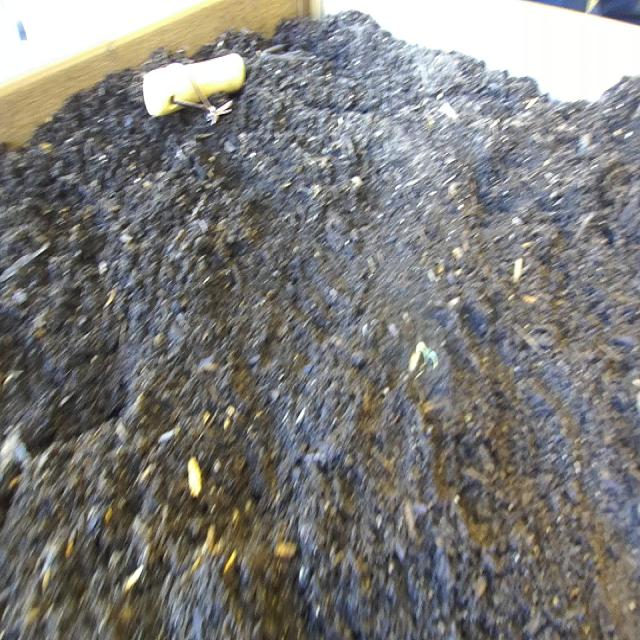Unhealthy: (406, 319, 447, 406)
